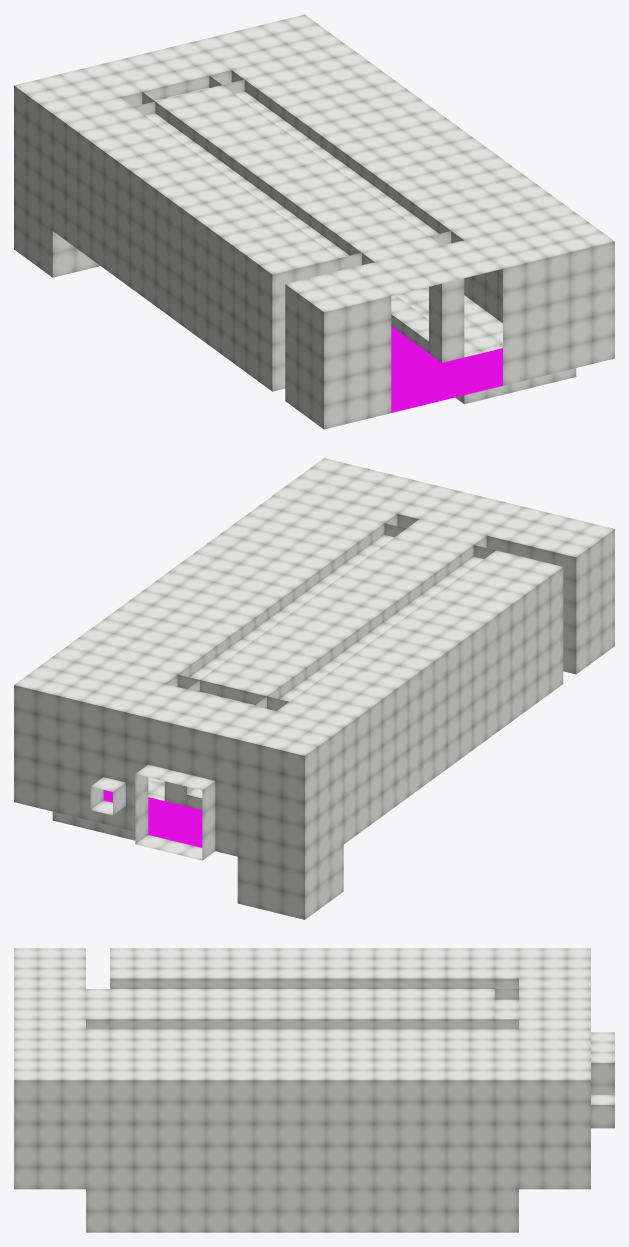
The model's file is race.fbx.
3 renders of one model, top to bottom at view 1: azimuth 30°, elevation 25°; view 2: azimuth 150°, elevation 25°; view 3: azimuth 270°, elevation 25°, orthographic. The views are drawn at different scales.
Parts seen in each view (by area): view 1: race; view 2: race; view 3: race.
Part boxes in pixels (<box>): race: <box>14,14,614,429</box>; race: <box>14,458,614,919</box>; race: <box>14,948,614,1232</box>.
Bounding box in the file's own units: 25 × 13 × 7.
Materials: 2 (1 with a texture image).
